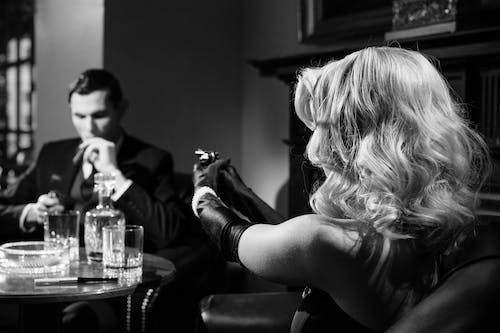alcohol: (83, 182, 127, 266), (100, 223, 144, 281), (42, 209, 81, 263)
cigarette: (70, 145, 88, 166), (32, 274, 59, 287)
gun: (191, 142, 220, 163)
